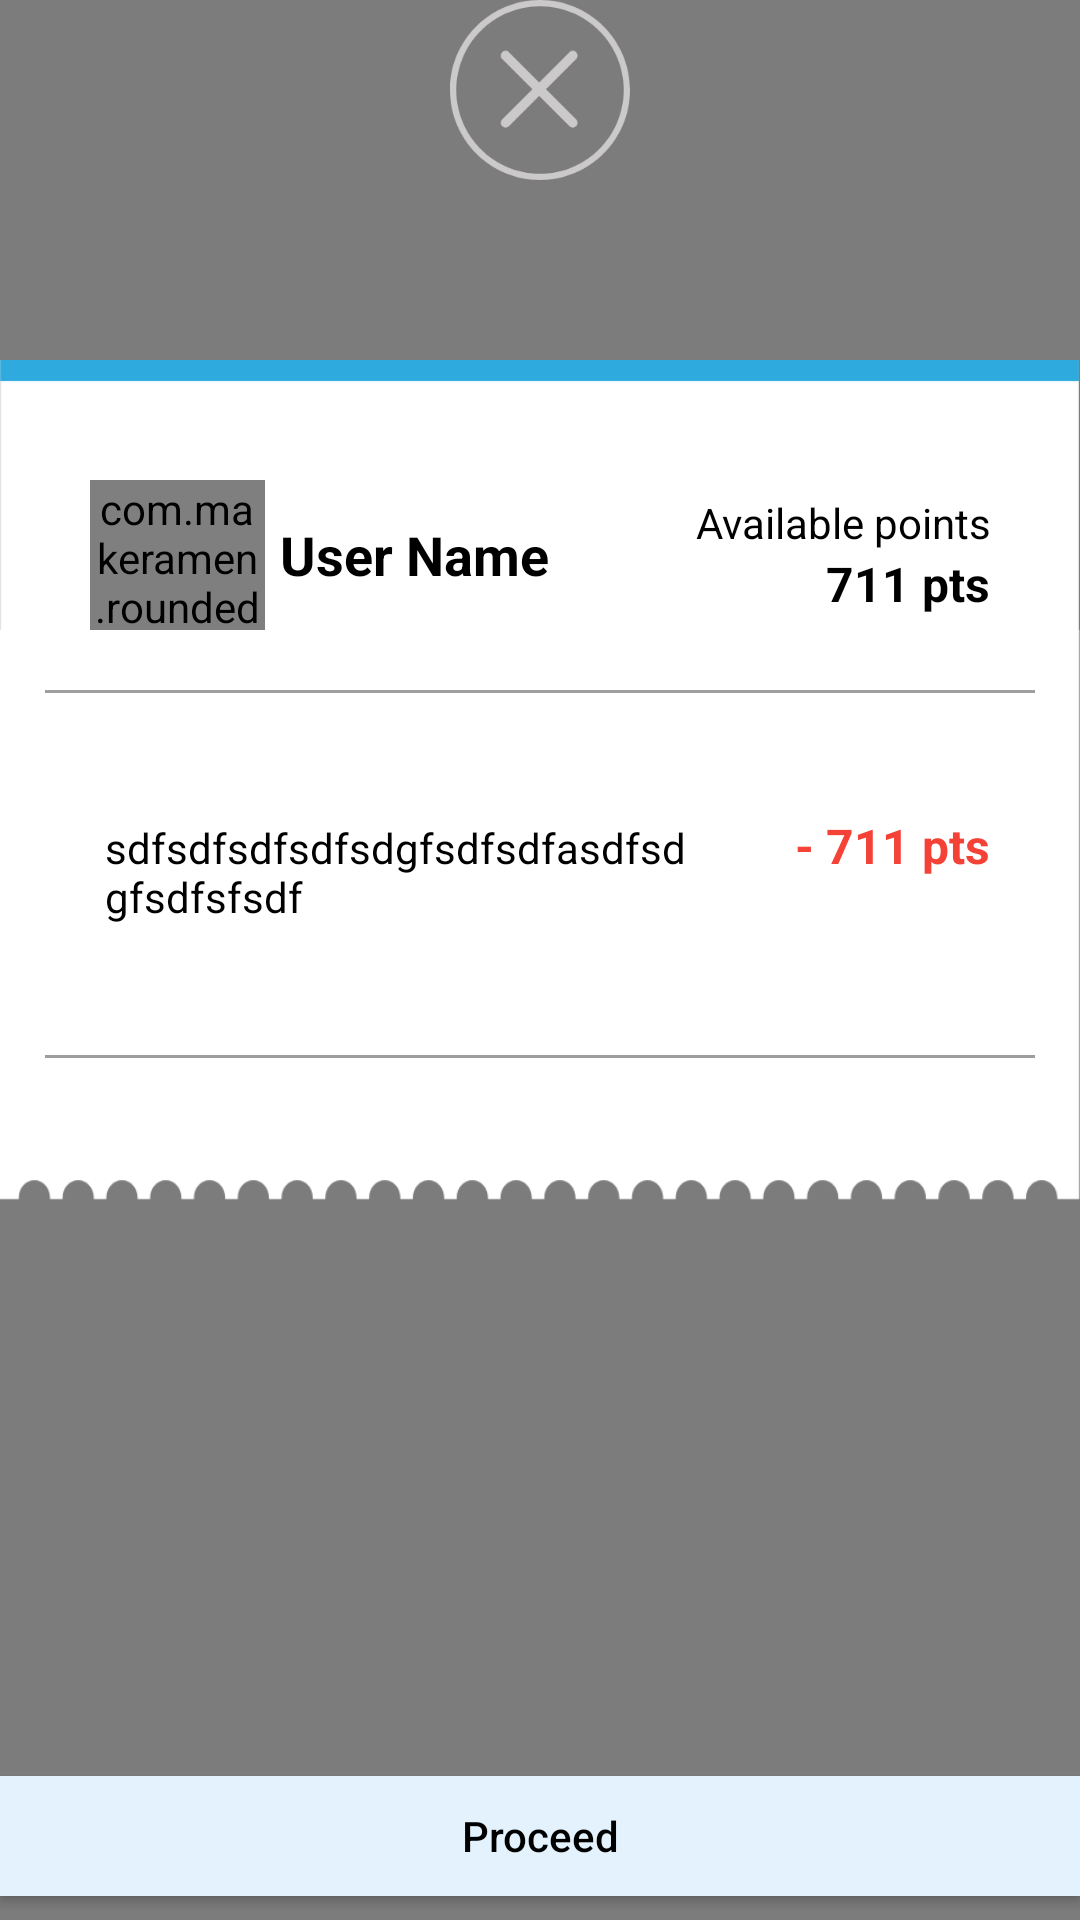

Locate icon controls on the screen. Image size 1080×1920, boxes as (x1, y1, x2, y2).
redemption close: (450, 0, 630, 180)
